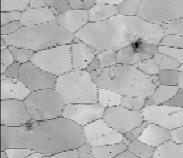good_void: (124, 35, 144, 56), (21, 117, 39, 131), (107, 73, 115, 81), (100, 133, 105, 139), (46, 137, 51, 141), (9, 89, 13, 93), (84, 59, 87, 62)
